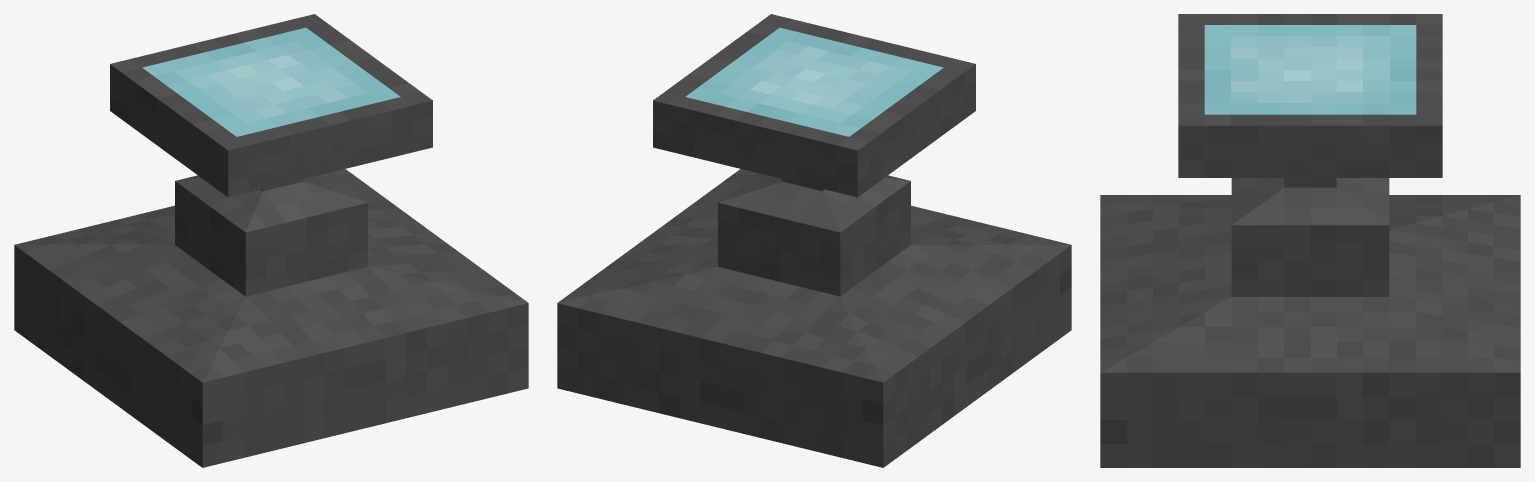
The model's file is entity_detector_simple.obj.
3 views of the same model, side by side, from view 1: azimuth 30°, elevation 25°; view 2: azimuth 150°, elevation 25°; view 3: azimuth 270°, elevation 25° (orthographic). The views are drawn at different scales.
Visible parts, largest first — view 1: Cube; view 2: Cube; view 3: Cube.
Boxes of the visible parts, x1,y1,x2,y2 form: Cube: (14, 14, 528, 467); Cube: (557, 14, 1071, 467); Cube: (1100, 14, 1520, 467).
Size of the model in its own units: 1 by 0.8116 by 1.
